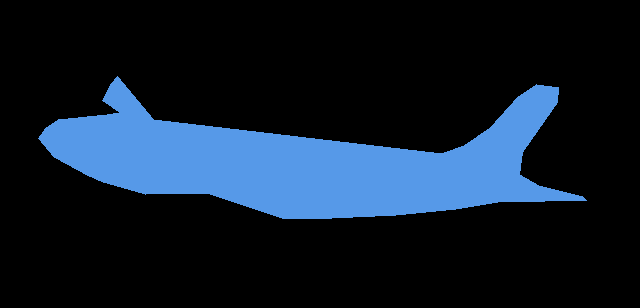Airplane: (38, 76, 586, 219)
